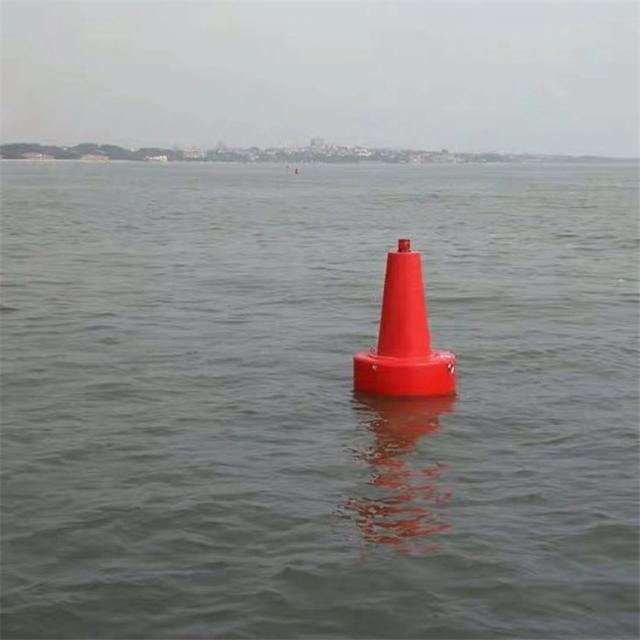buoy: (348, 230, 462, 400)
